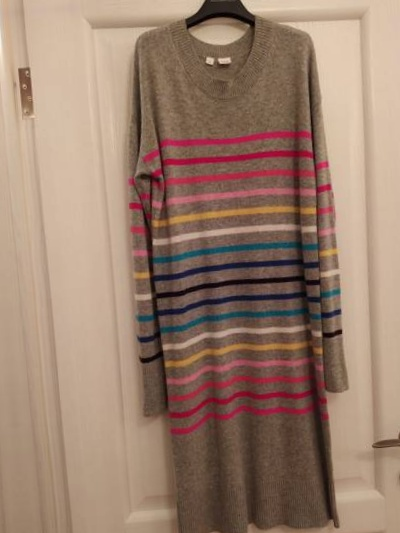Dress: (82, 5, 390, 533)
